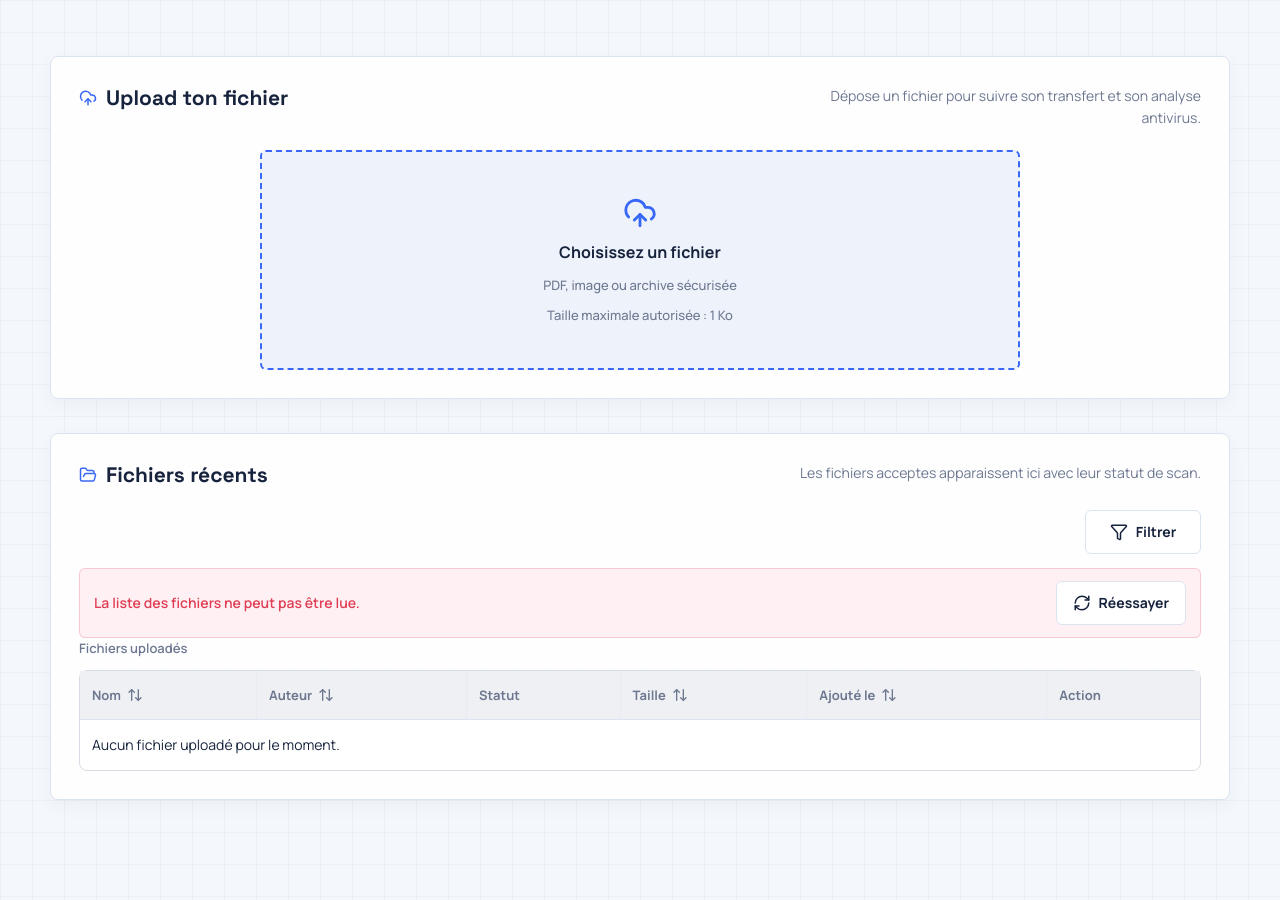
Test case: DashboardPage › shows a retry action when the recent files register cannot be loaded
Expected: the message reads "La liste des fichiers ne peut pas être lue.", top-left (94, 593), bottom-right (360, 612)
Click the button "Réessayer" at (1121, 603), box top-left (1056, 581), bottom-right (1186, 625)
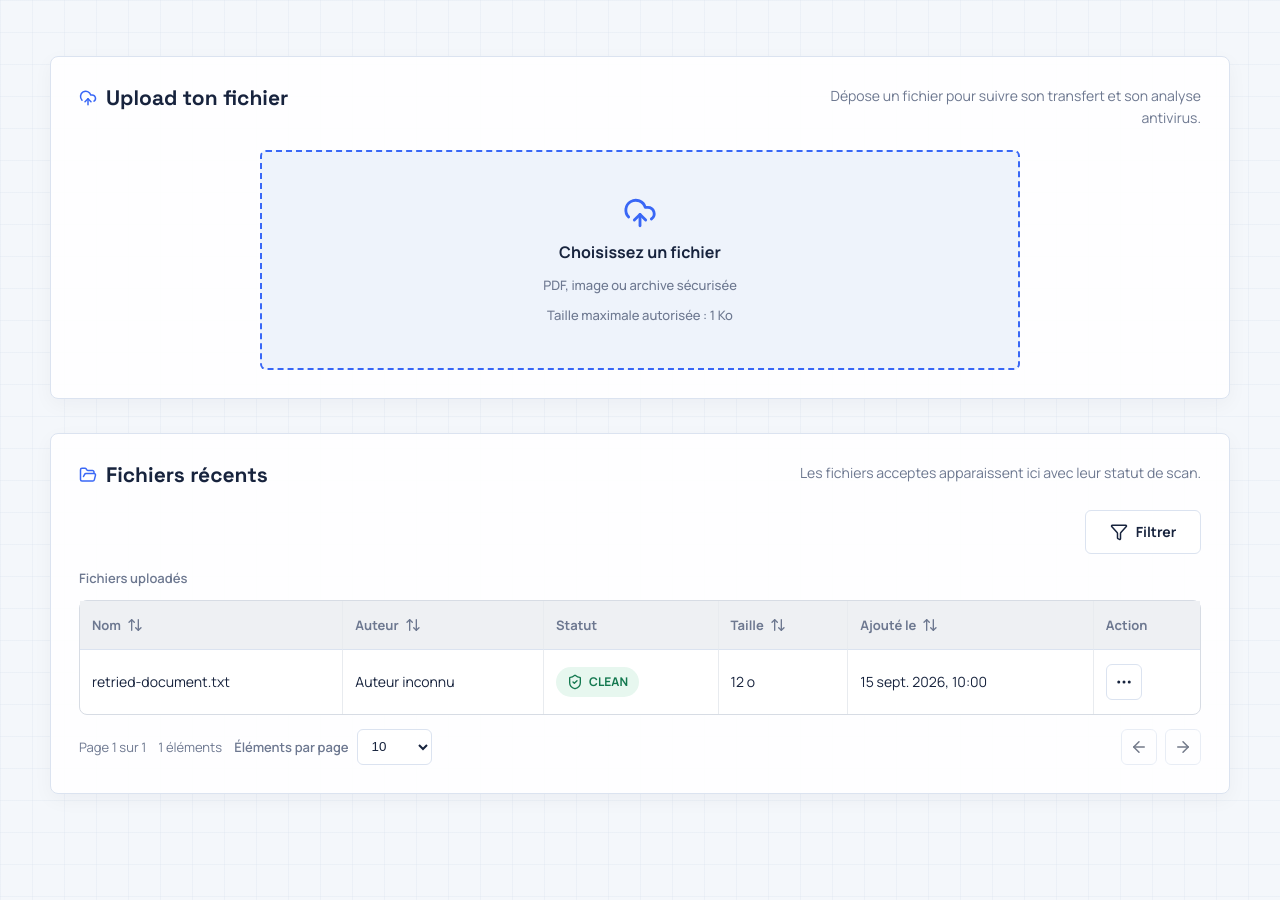
Now the text "retried-document.txt" is shown, box top-left (80, 650), bottom-right (343, 714)
